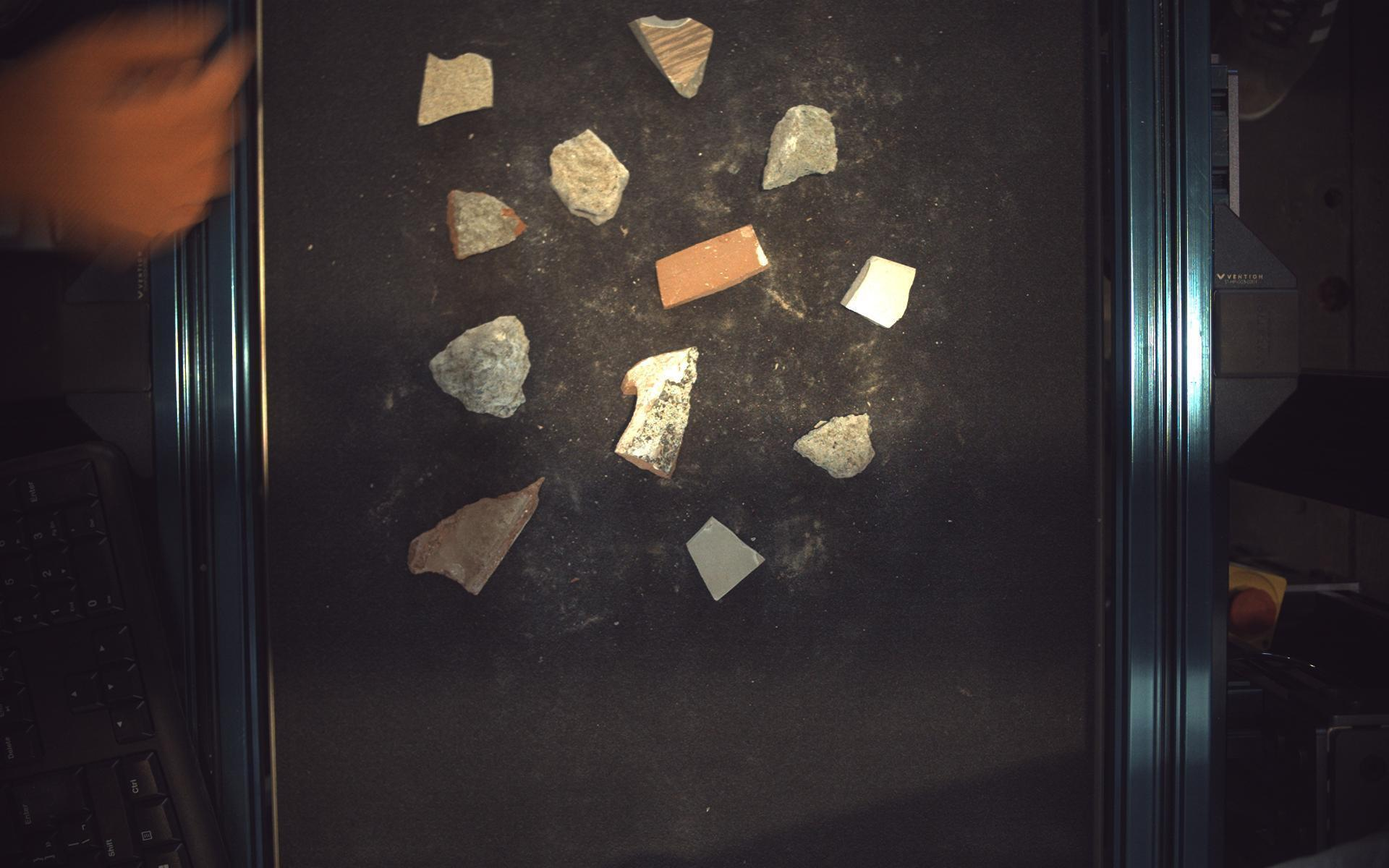brick: (408, 477, 544, 596), (616, 346, 700, 479), (657, 224, 770, 308), (447, 190, 526, 259)
concrete: (430, 315, 530, 418), (550, 128, 631, 224), (763, 104, 839, 189), (795, 414, 876, 479)
tile: (629, 14, 714, 97), (687, 517, 765, 601), (418, 51, 493, 124), (843, 255, 917, 328)
